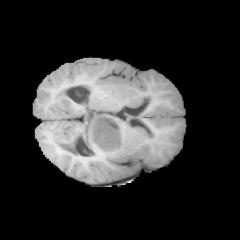glioma: (89, 115, 124, 153)
